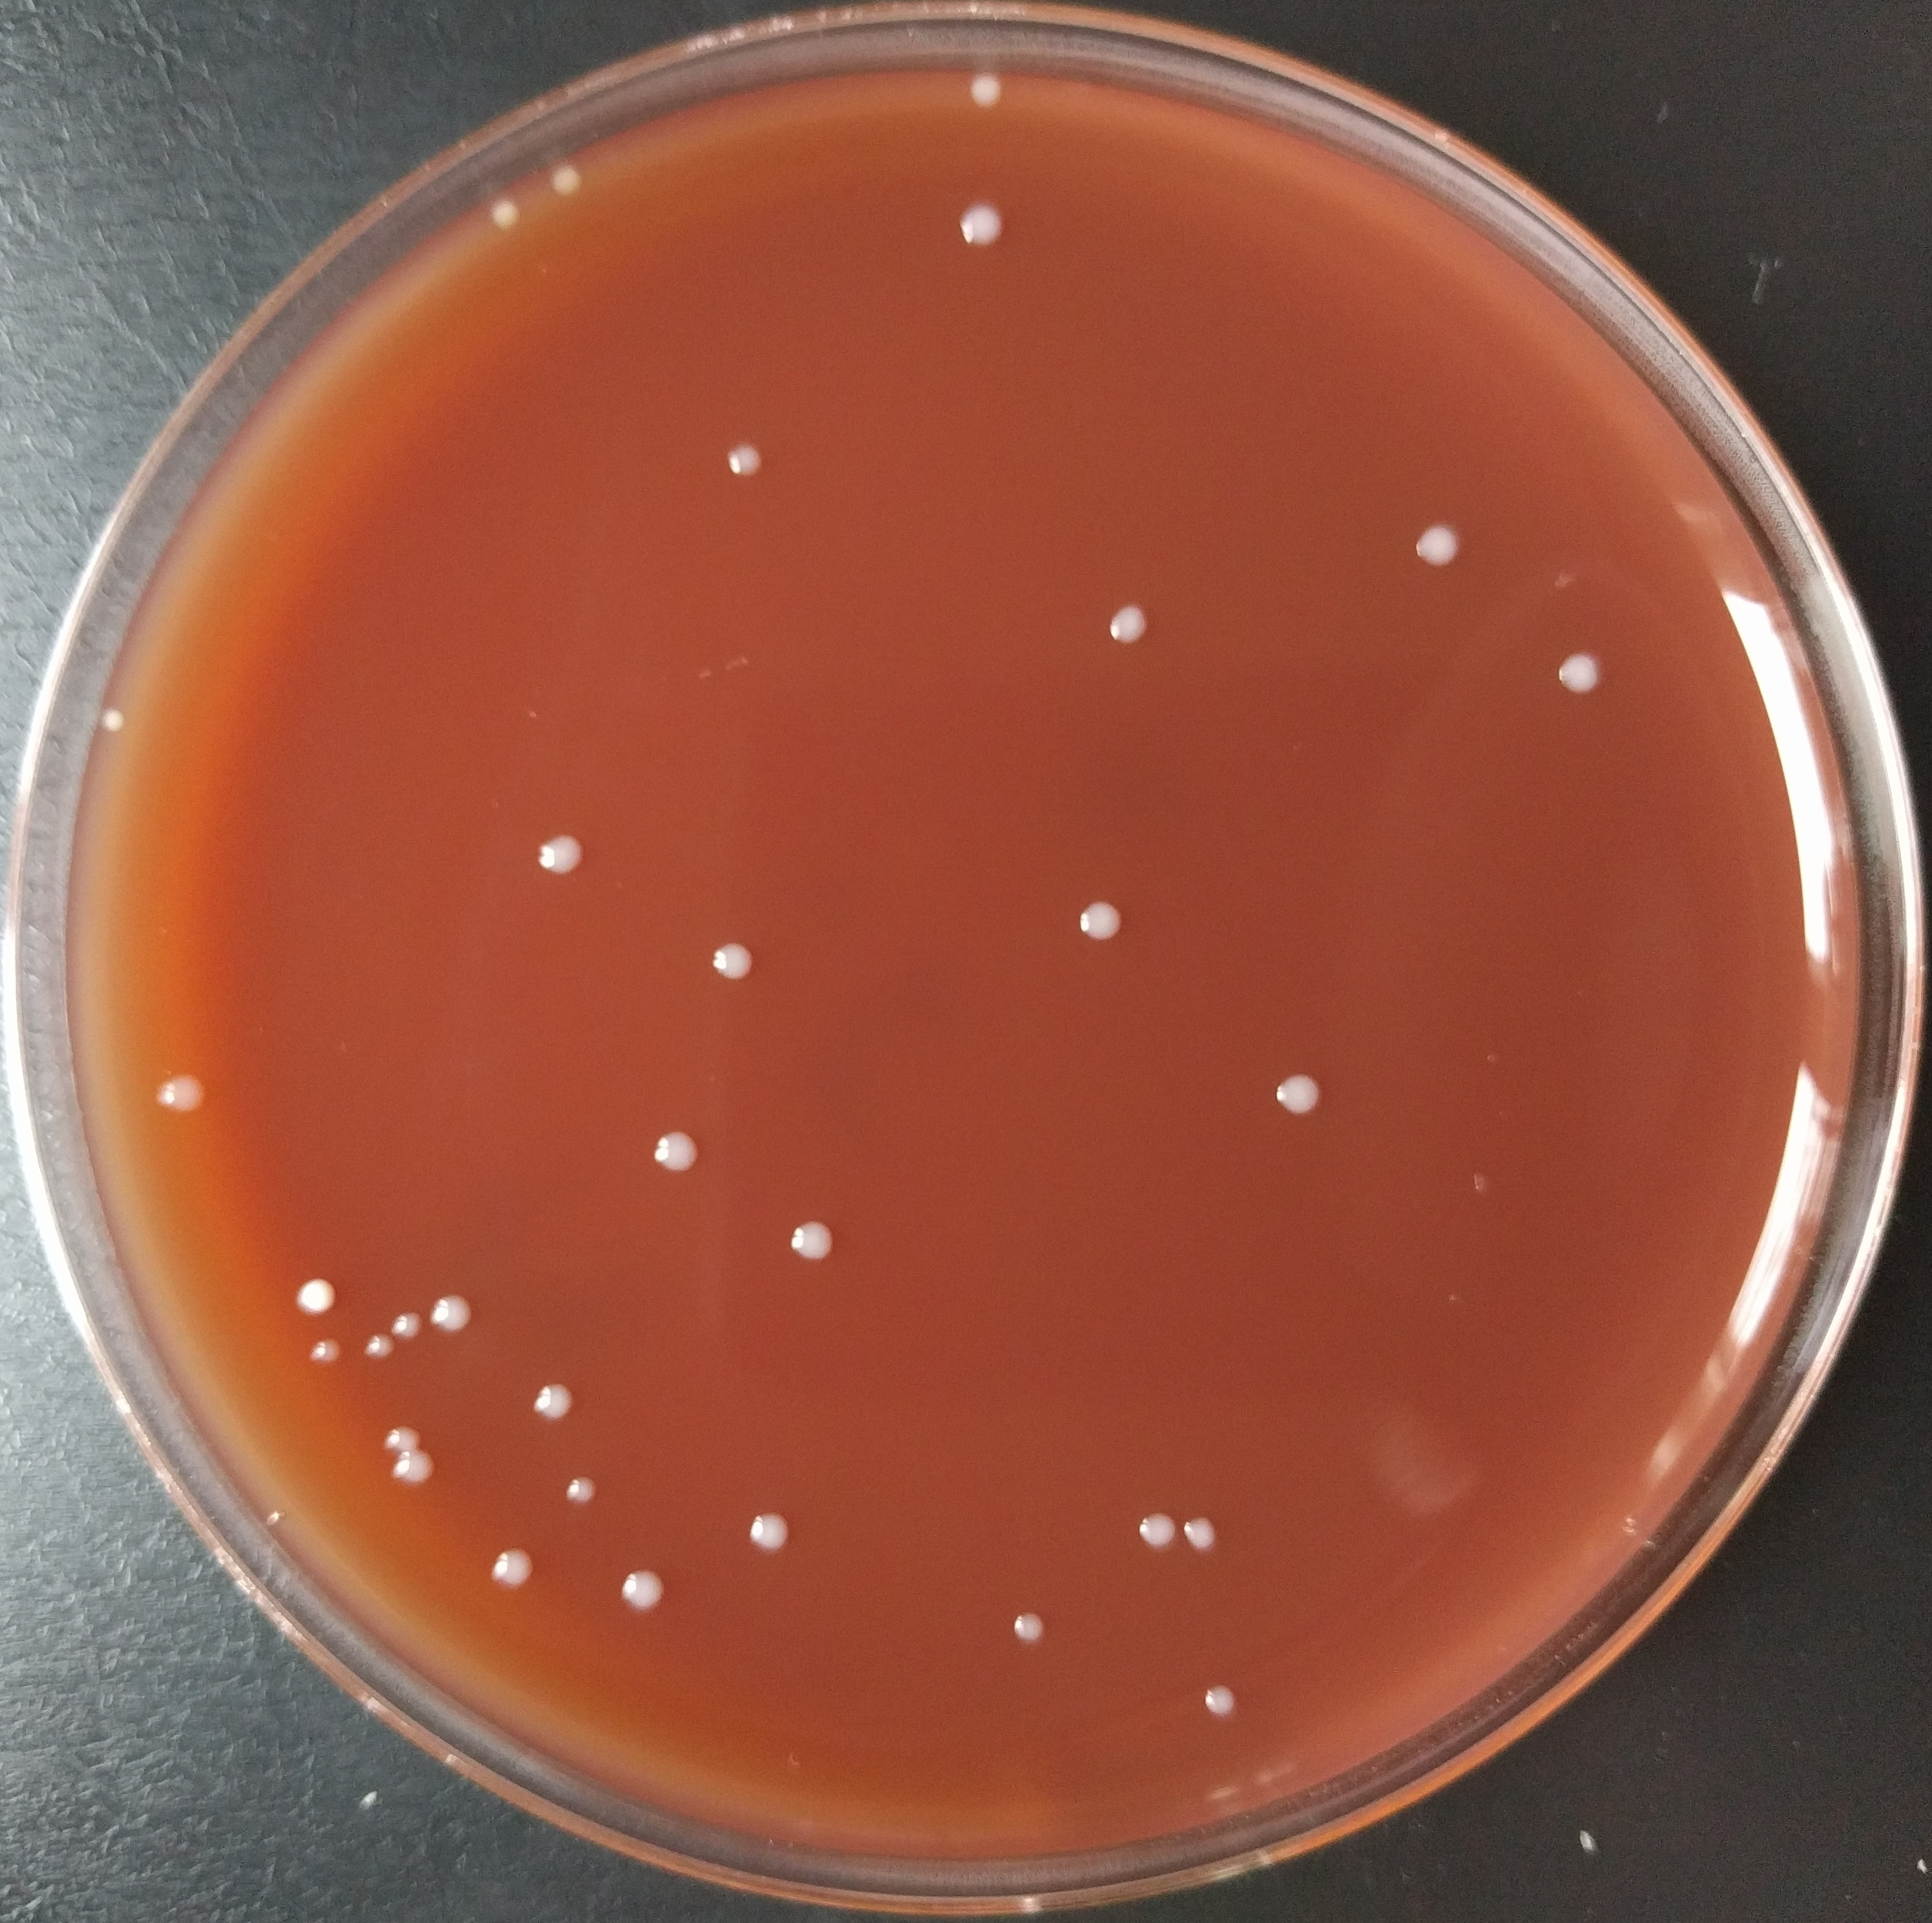sp16: (1402, 507, 1478, 586), (1268, 1064, 1340, 1132), (713, 433, 796, 493), (1087, 592, 1159, 653), (1550, 639, 1613, 703), (775, 1210, 837, 1271), (955, 199, 1014, 261), (1071, 891, 1131, 953), (643, 1120, 704, 1180), (528, 829, 594, 884), (159, 1067, 218, 1124), (426, 1286, 477, 1345), (743, 1506, 803, 1557), (521, 1379, 583, 1423), (615, 1564, 673, 1610), (708, 935, 759, 986), (292, 1271, 340, 1323), (486, 1537, 537, 1583), (544, 158, 594, 197), (1199, 1680, 1242, 1724), (1131, 1511, 1175, 1550), (306, 1330, 347, 1370), (486, 195, 527, 236), (969, 67, 1009, 102), (551, 1472, 613, 1495), (1184, 1518, 1217, 1557), (391, 1308, 431, 1340), (379, 1423, 419, 1453), (99, 701, 127, 743), (398, 1460, 435, 1488), (1007, 1610, 1046, 1636), (365, 1333, 396, 1361)
